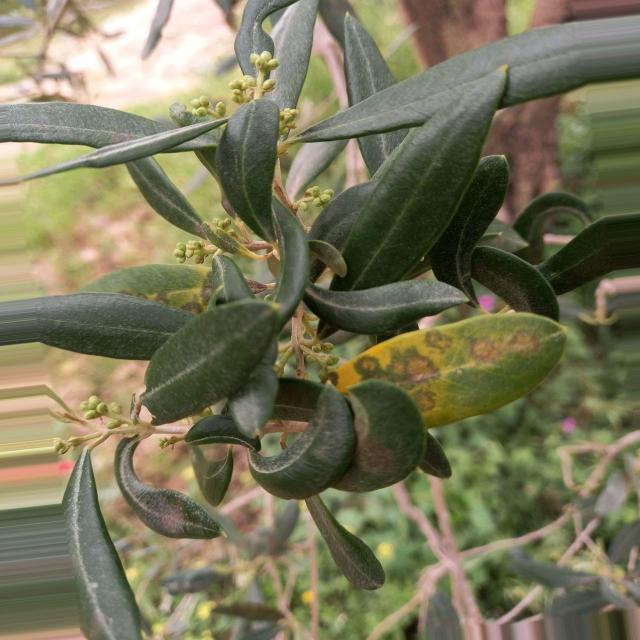OlivePeacockSpot: (336, 314, 567, 428), (79, 264, 213, 308)
